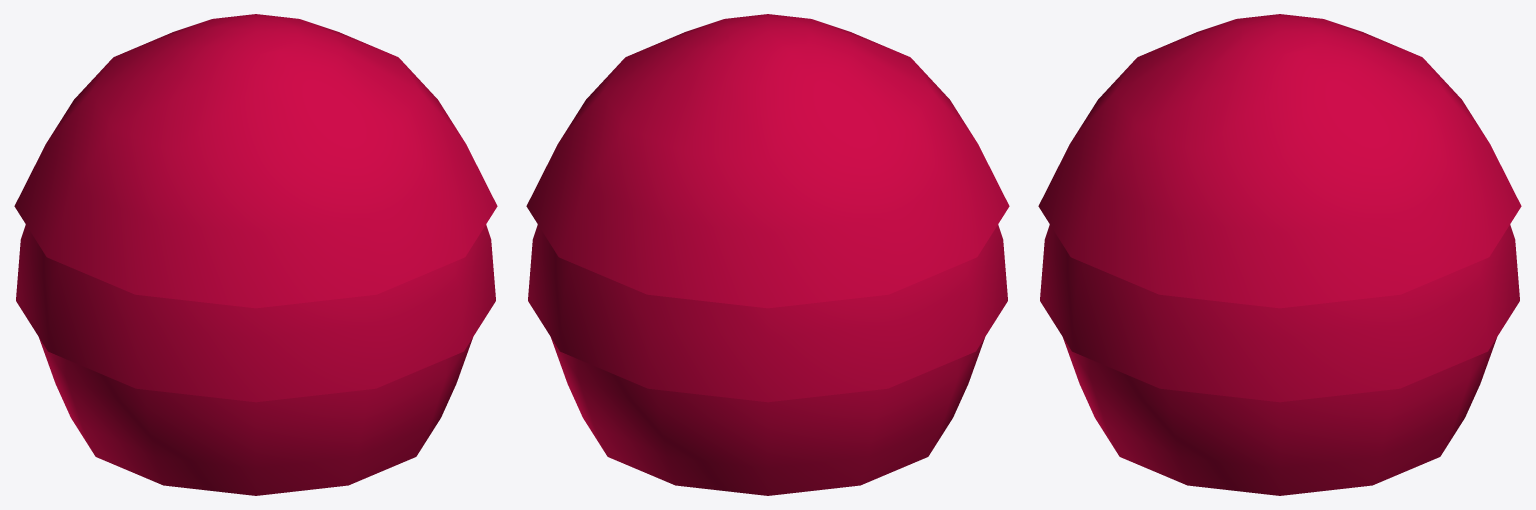
The model's file is Buisson_LowPoly.fbx.
3 views of the same model, side by side, from view 1: azimuth 30°, elevation 25°; view 2: azimuth 150°, elevation 25°; view 3: azimuth 270°, elevation 25° (orthographic).
Parts seen in each view (by area): view 1: Tex_autosave_1; view 2: Tex_autosave_1; view 3: Tex_autosave_1.
Boxes of the visible parts, x1,y1,x2,y2 form: Tex_autosave_1: (14, 14, 497, 495); Tex_autosave_1: (526, 14, 1009, 495); Tex_autosave_1: (1038, 14, 1521, 495).
Size of the model in its own units: 194 by 171 by 194.
